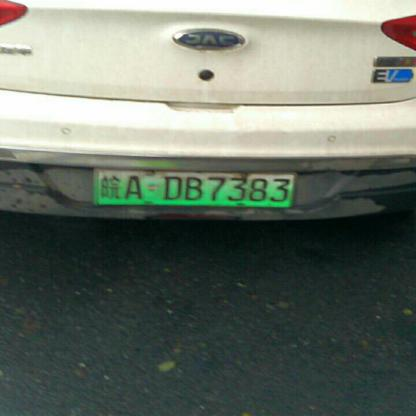lp: (95, 168, 295, 206)
